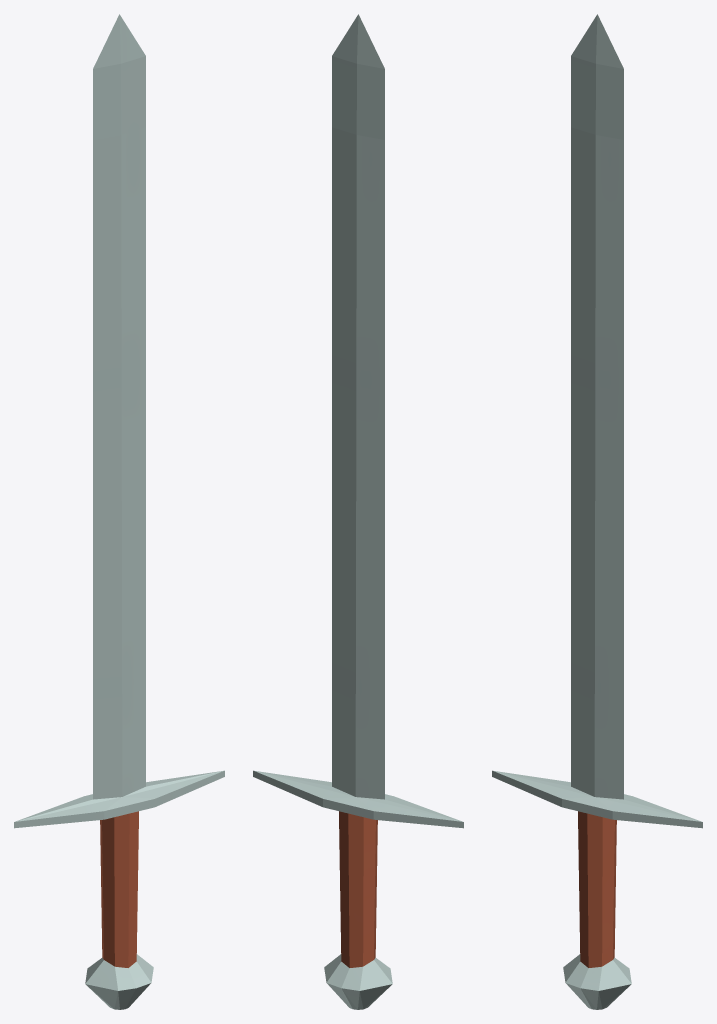
Rendered from Sword.glb.
3 views of the same model, side by side, from view 1: azimuth 30°, elevation 25°; view 2: azimuth 150°, elevation 25°; view 3: azimuth 330°, elevation 25° (orthographic).
Visible parts, largest first — view 1: One handed sword; view 2: One handed sword; view 3: One handed sword.
Boxes of the visible parts, x1,y1,x2,y2 form: One handed sword: (14, 14, 224, 1009); One handed sword: (253, 14, 463, 1009); One handed sword: (492, 14, 702, 1009).
Size of the model in its own units: 0.1652 by 0.7428 by 0.0465.
Materials: 1 (1 with a texture image).
